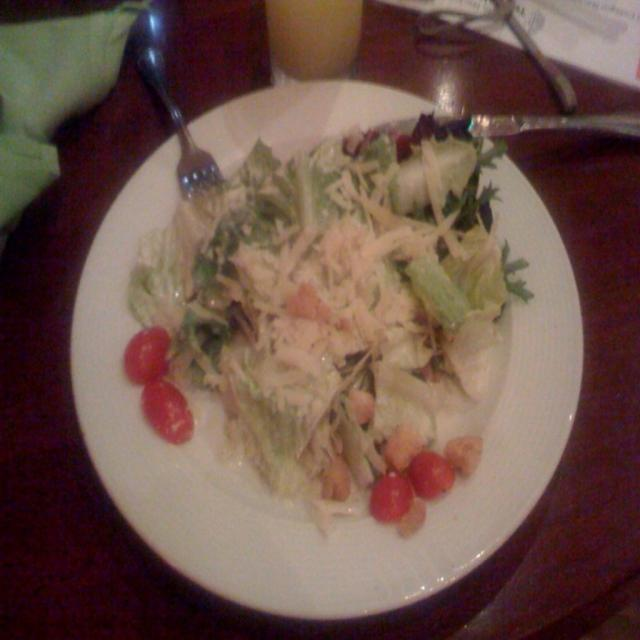non-organic waste: (59, 33, 585, 640)
